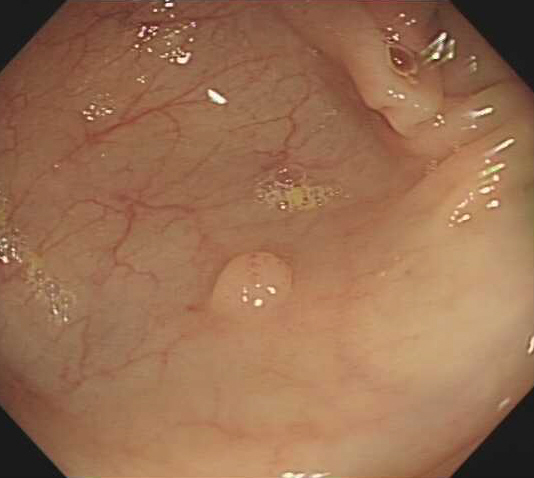others: (207, 249, 295, 325)
